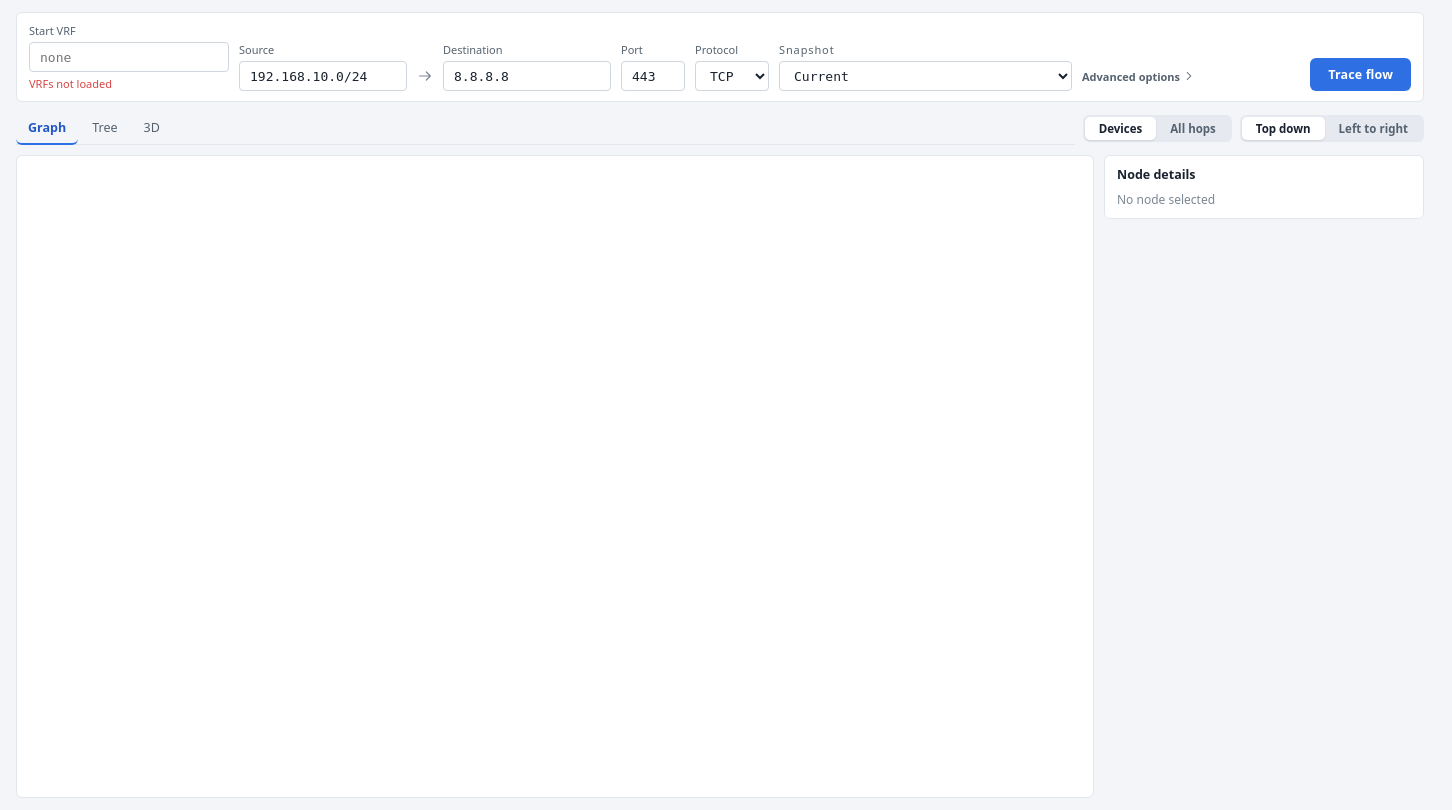
Test: TracePage: trace mode wiring › blocked fixture: the deciding rulebase is marked, and the inspector names it
Step 1. Click the button "Trace flow" → (1361, 74), box [1310, 58, 1411, 91]
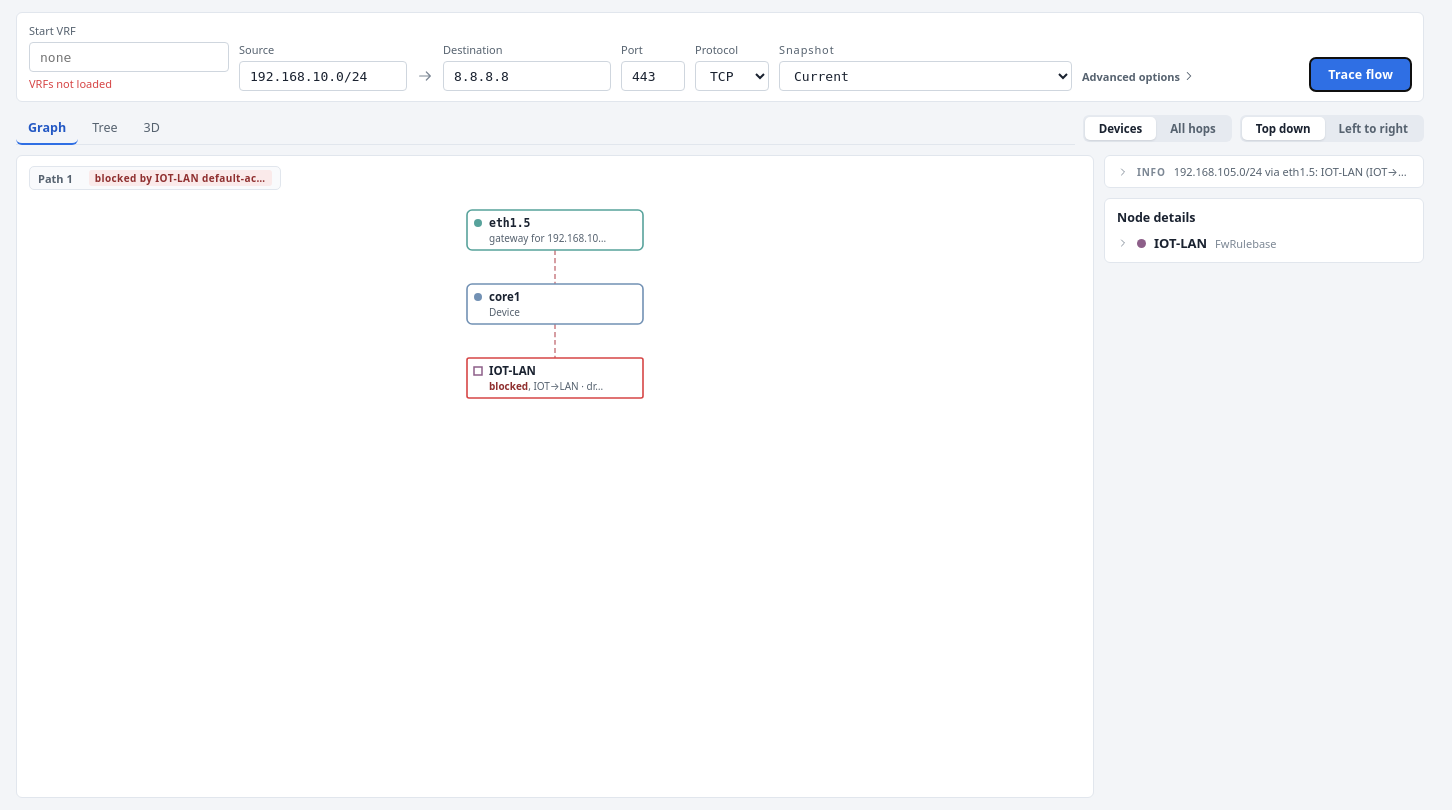
Expected: the element with class "bad" is shown, [489, 379, 528, 393]
Step 2. Click the button "IOT-LAN FwRulebase" → (1264, 243), box [1117, 234, 1411, 252]
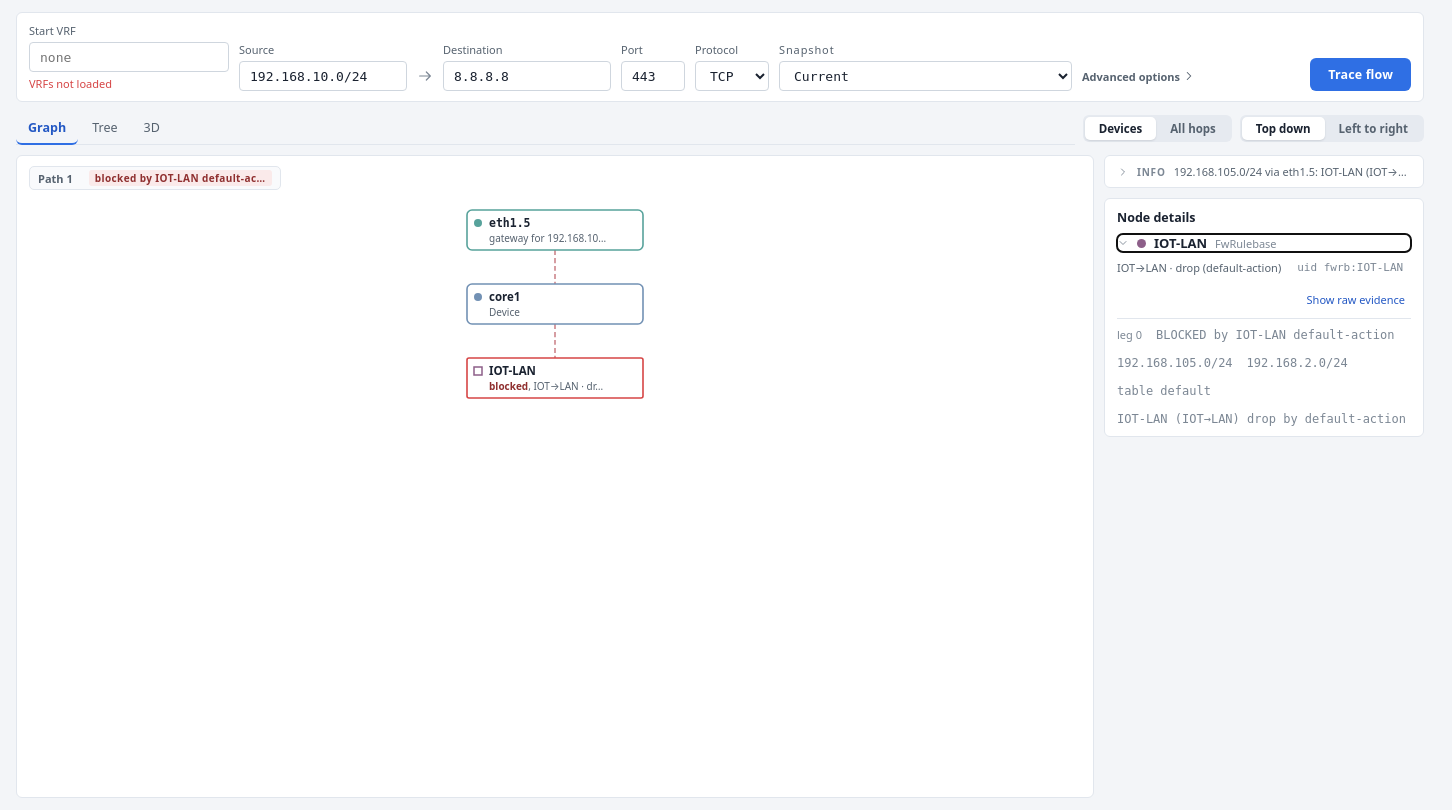
Expected: the text "IOT-LAN (IOT→LAN) drop by default-action" is shown, [1117, 412, 1406, 426]
